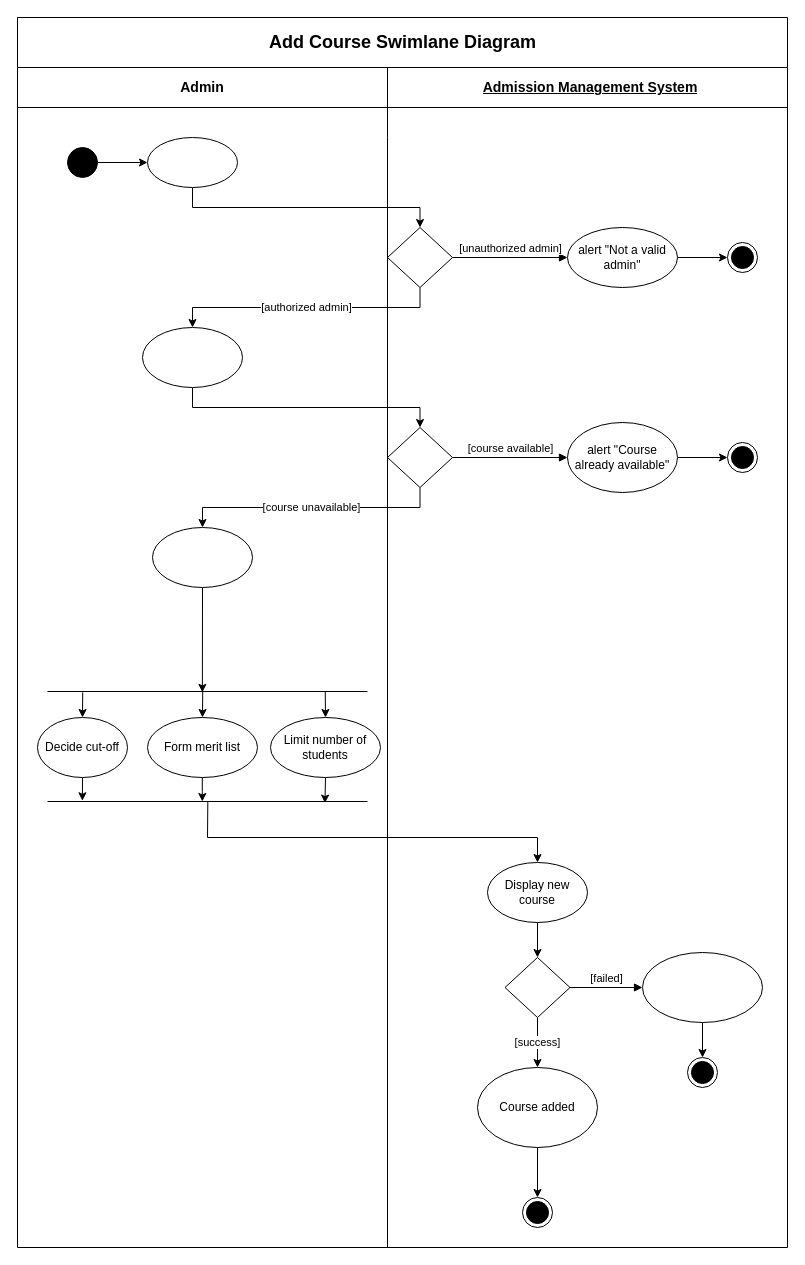
This 805x1265 diagram has some shape labels left out. Each missing label, with the box of its shape:
Add course details: (152, 526, 252, 588)
alert "Course not added": (642, 952, 762, 1022)
Login: (146, 136, 238, 188)
Select new course: (142, 326, 242, 388)
